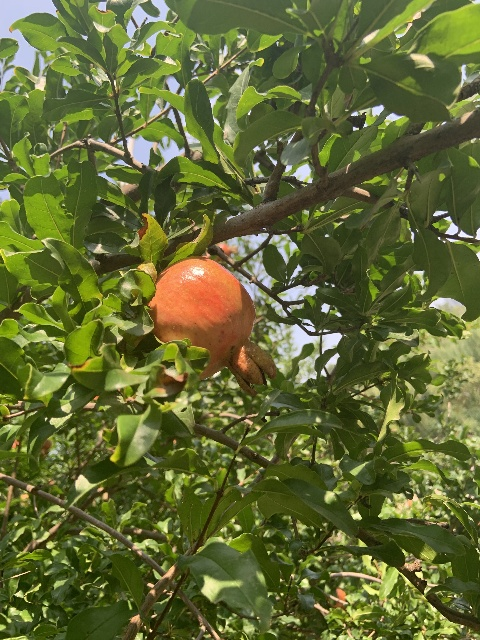ripe: (147, 255, 277, 396)
